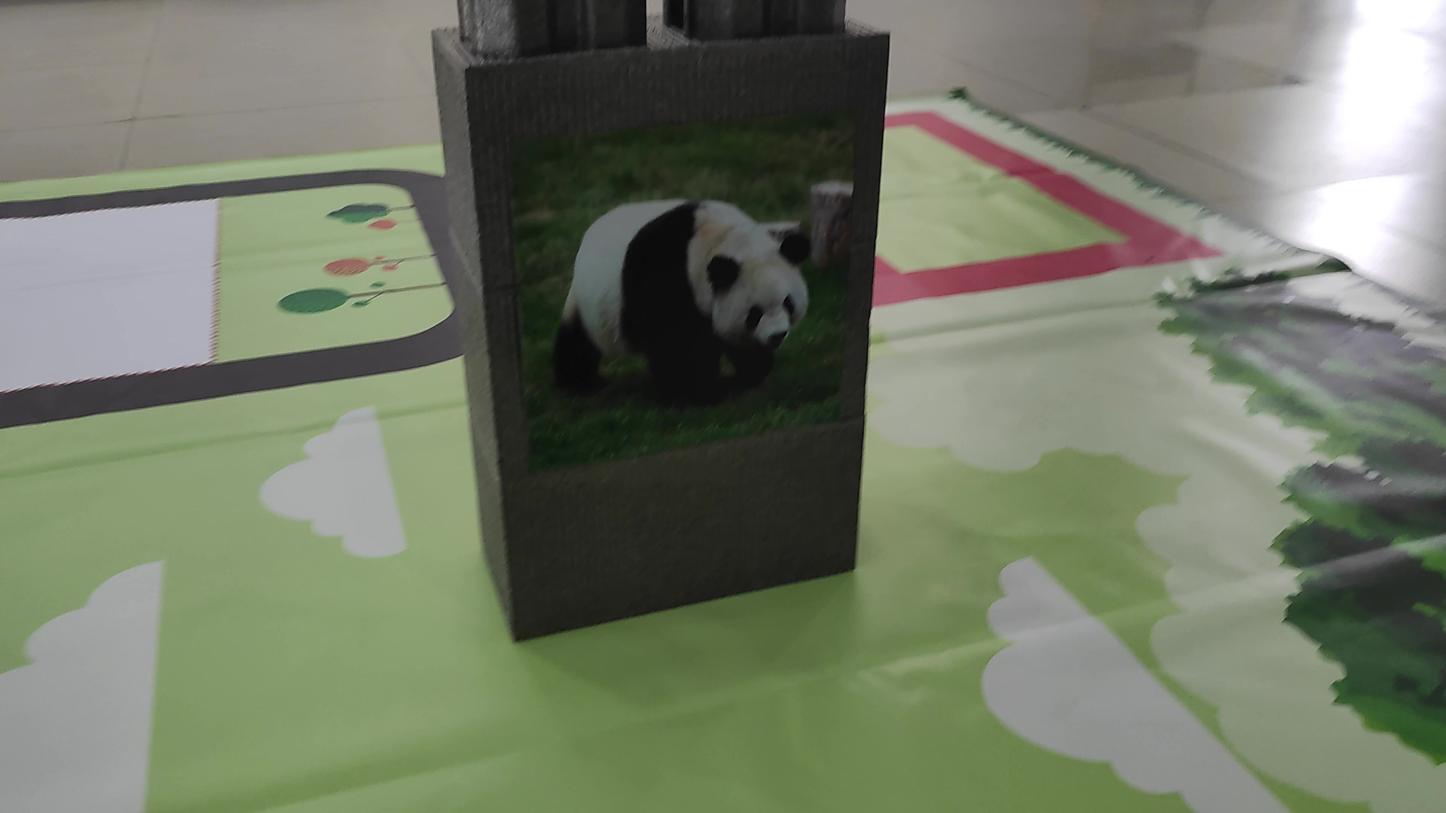panda: (533, 158, 819, 450)
